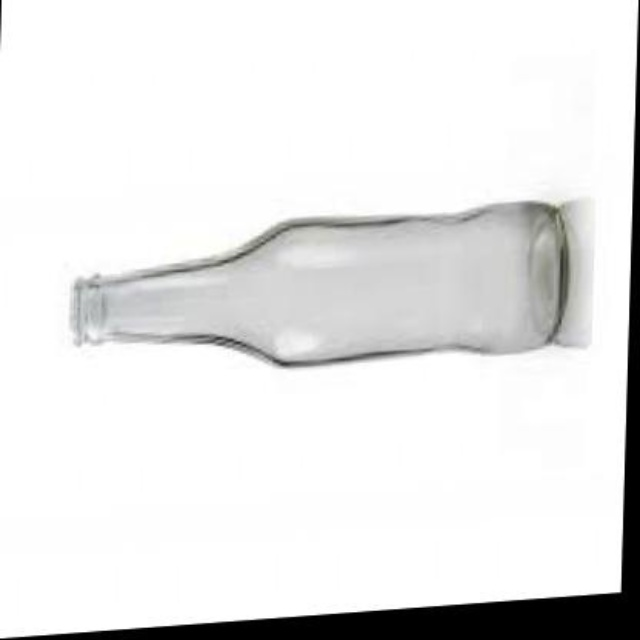trash: (72, 198, 591, 363)
